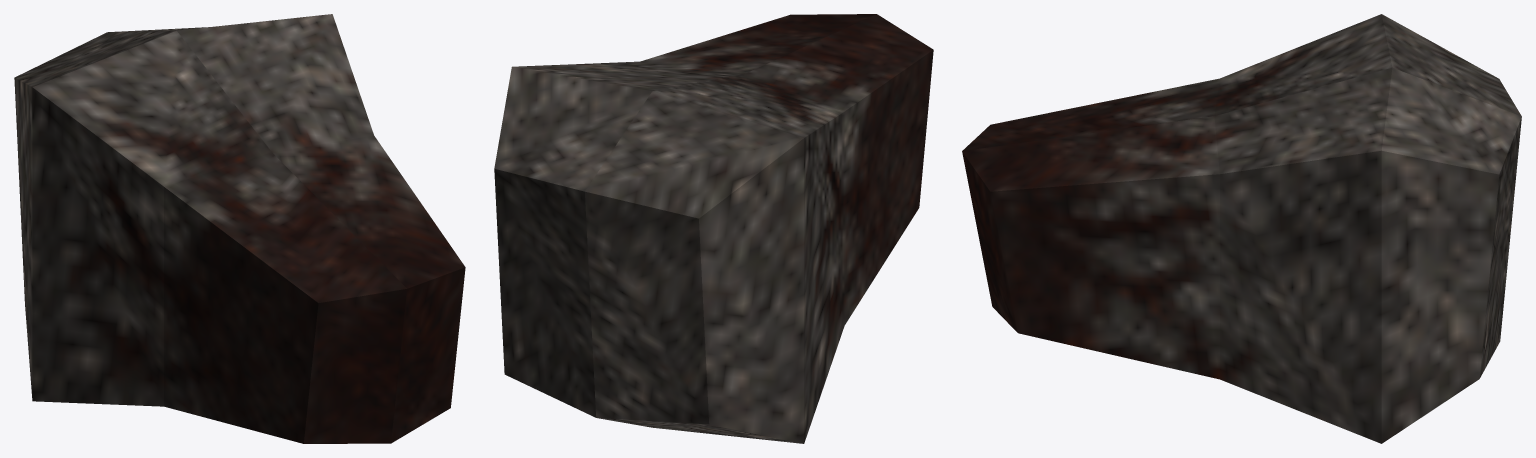
File: geonachfist.obj
3 views of the same model, side by side, from view 1: azimuth 30°, elevation 25°; view 2: azimuth 150°, elevation 25°; view 3: azimuth 270°, elevation 25° (orthographic). The views are drawn at different scales.
Parts seen in each view (by area): view 1: Base; view 2: Base; view 3: Base.
Part boxes in pixels (bbox=[...]): Base: bbox=[14, 14, 465, 443]; Base: bbox=[494, 14, 933, 443]; Base: bbox=[962, 14, 1521, 443].
Size of the model in its own units: 0.3 by 0.33 by 0.5191.
